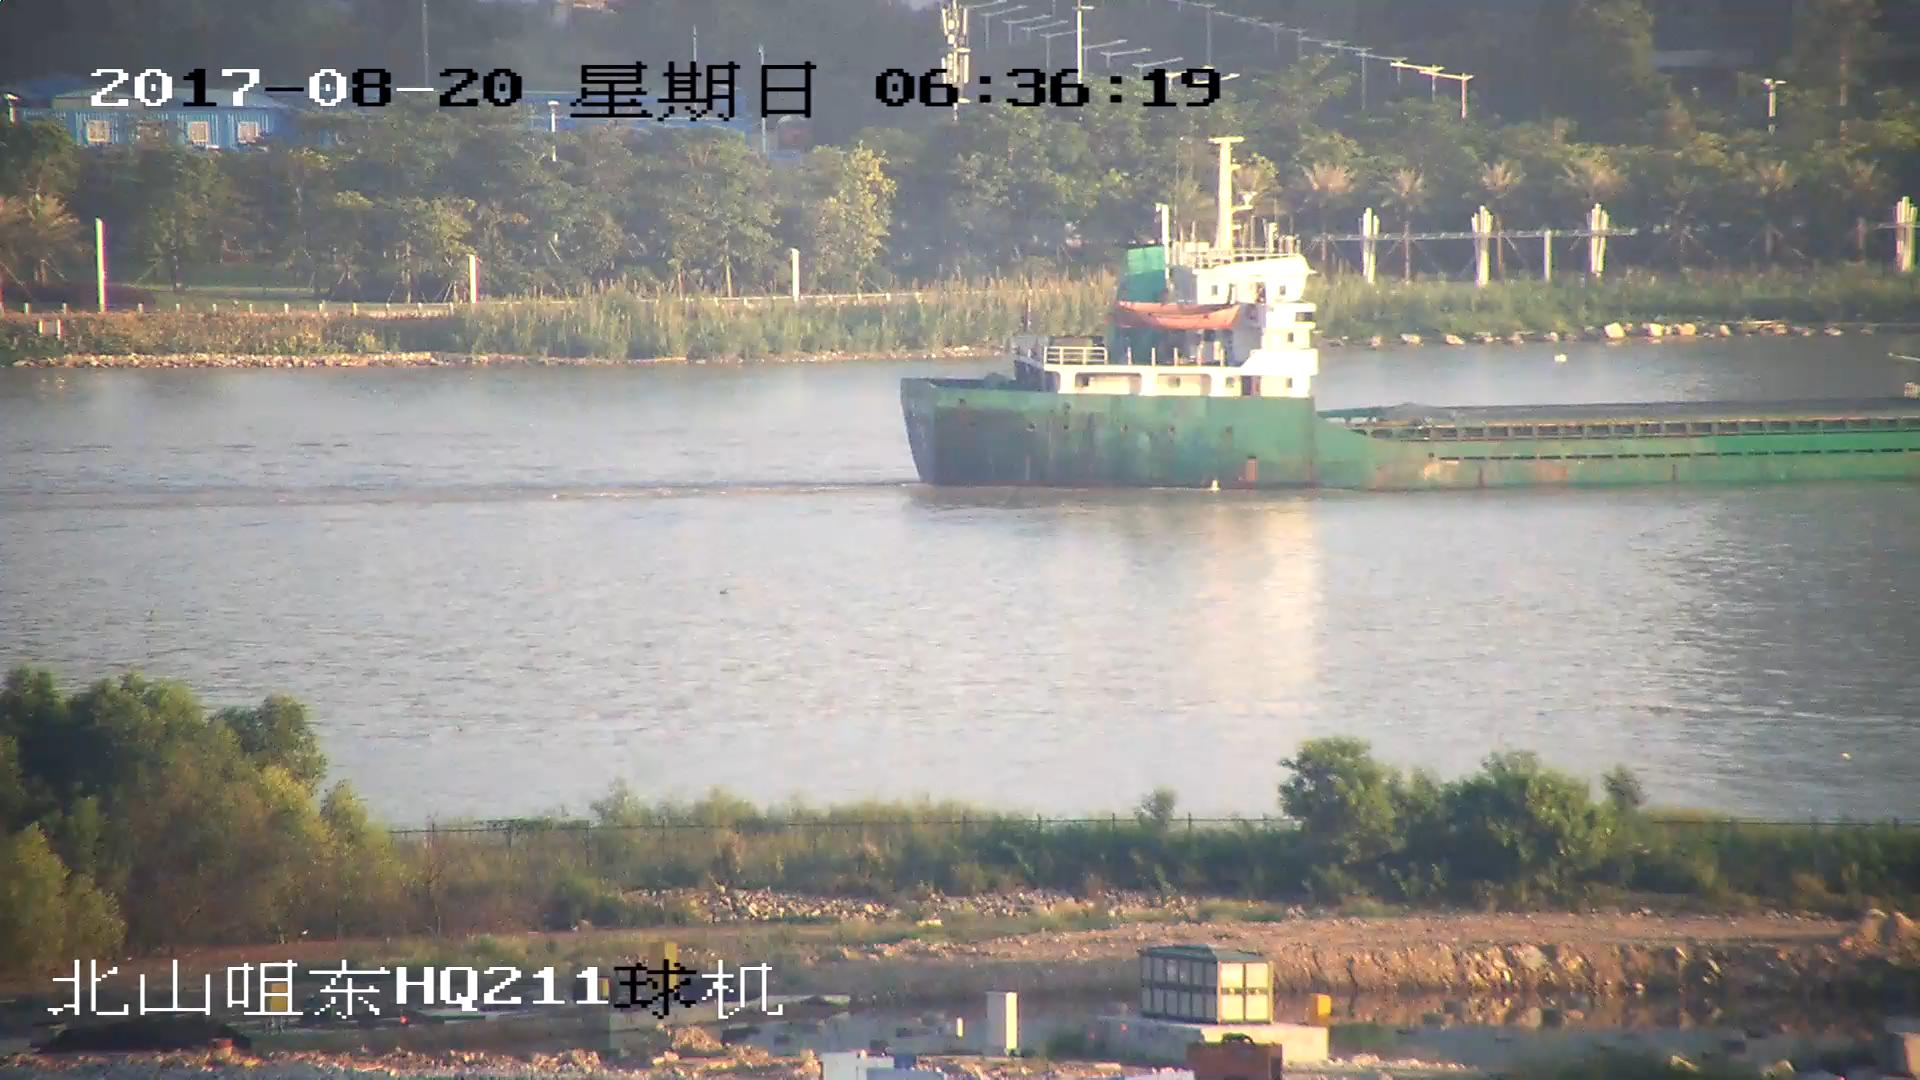general cargo ship: (899, 140, 1920, 496)
